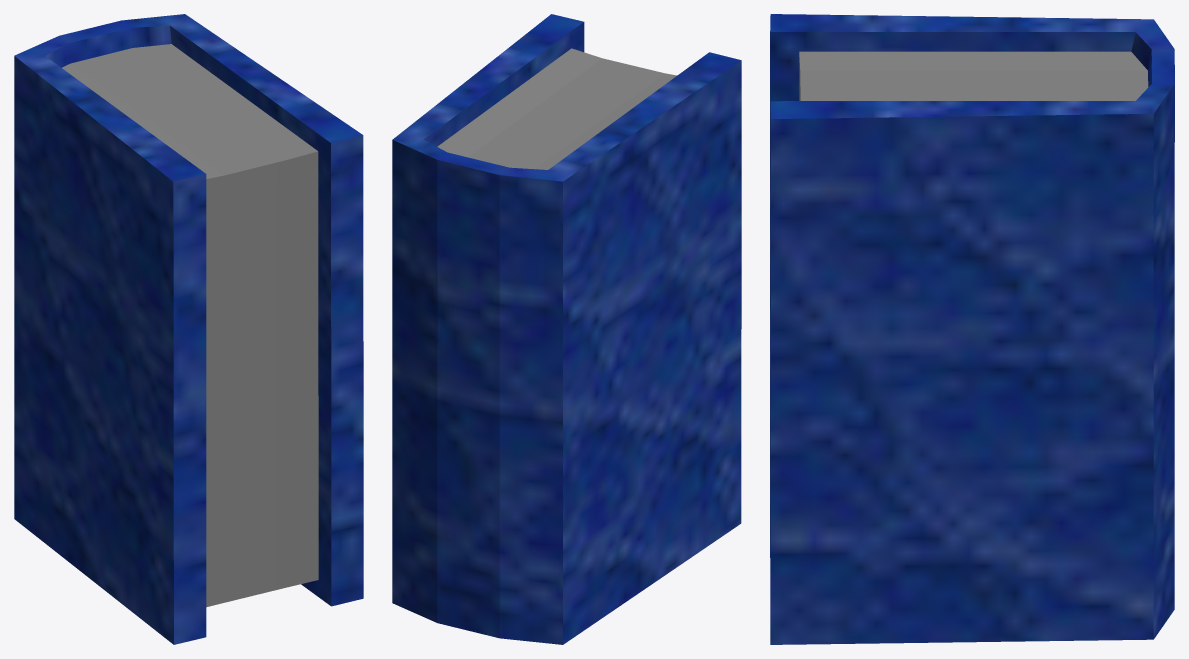
File: Book2.fbx
The picture shows the model from 3 angles, left to right: view 1: azimuth 30°, elevation 25°; view 2: azimuth 150°, elevation 25°; view 3: azimuth 270°, elevation 25°; orthographic projection. The views are drawn at different scales.
Parts seen in each view (by area): view 1: book01.001; view 2: book01.001; view 3: book01.001.
Boxes of the visible parts, x1=… form: book01.001: x1=14, y1=14, x2=363, y2=644; book01.001: x1=392, y1=14, x2=741, y2=644; book01.001: x1=770, y1=14, x2=1174, y2=644.
Bounding box in the file's own units: 0.152 × 0.3538 × 0.2468.
